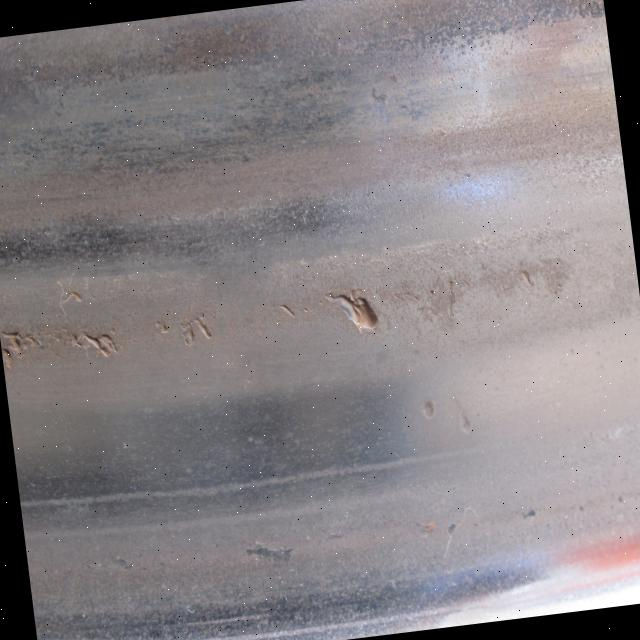Blue hole: (323, 282, 383, 337)
Peeling: (1, 298, 221, 376), (457, 412, 477, 438), (64, 288, 85, 309), (520, 265, 538, 288), (421, 398, 438, 419), (281, 302, 297, 322)
